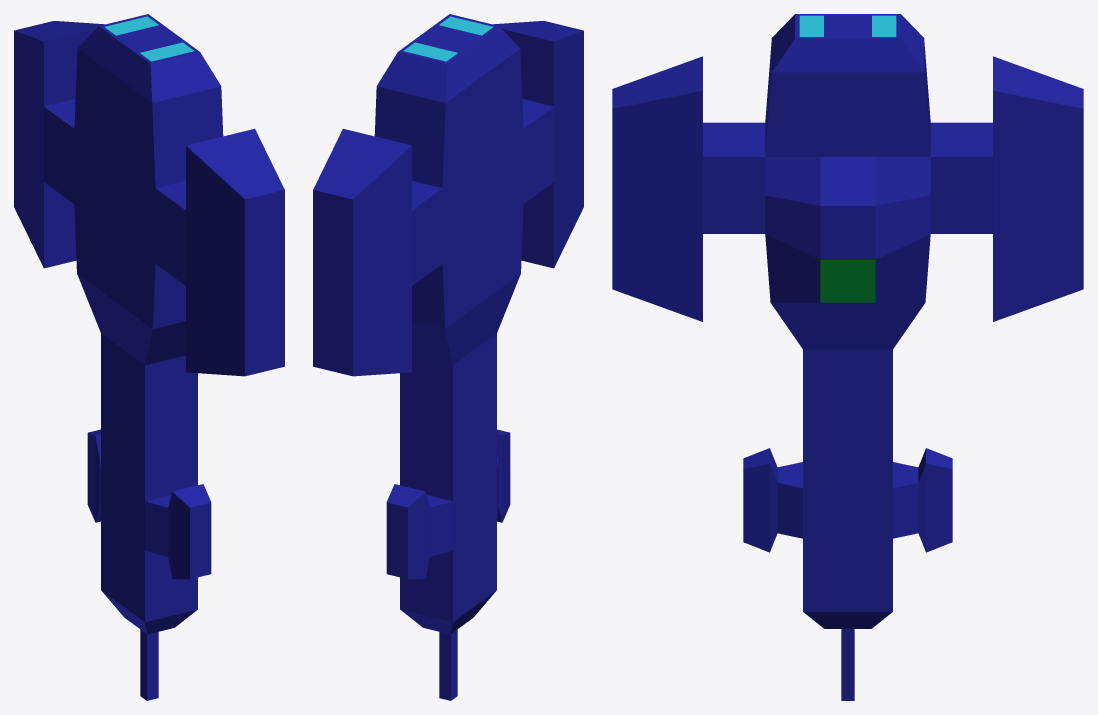
Rendered from FastEnemy.fbx.
The picture shows the model from 3 angles, left to right: view 1: azimuth 30°, elevation 25°; view 2: azimuth 150°, elevation 25°; view 3: azimuth 270°, elevation 25°; orthographic projection. The views are drawn at different scales.
Visible parts, largest first — view 1: Cube; view 2: Cube; view 3: Cube.
Part boxes in pixels (x1,y1,x2,y2): Cube: [14, 14, 284, 700]; Cube: [313, 14, 583, 700]; Cube: [612, 14, 1083, 700].
Size of the model in its own units: 47.97 by 309 by 197.
